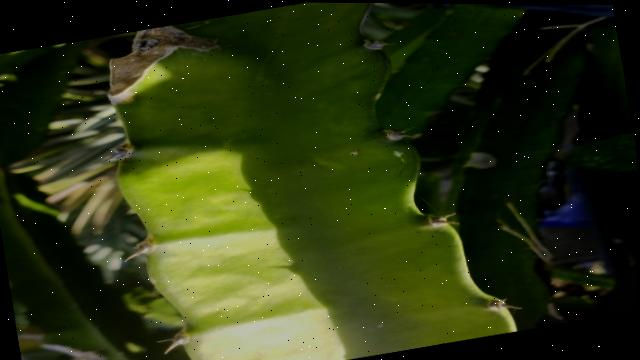stemcanker: (343, 143, 365, 162)
